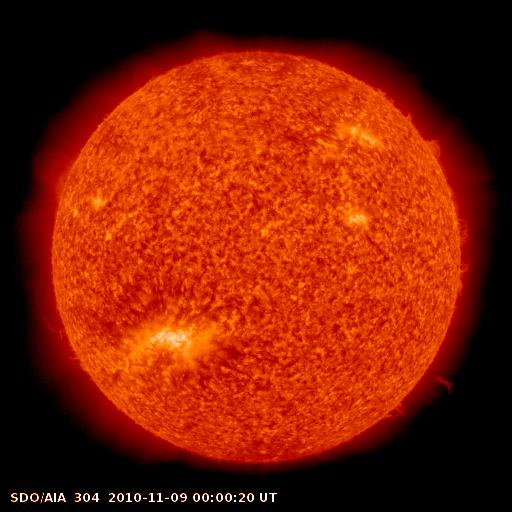prominence: (379, 359, 467, 428), (38, 302, 97, 382), (364, 70, 418, 134), (449, 209, 484, 297), (423, 124, 448, 178)
